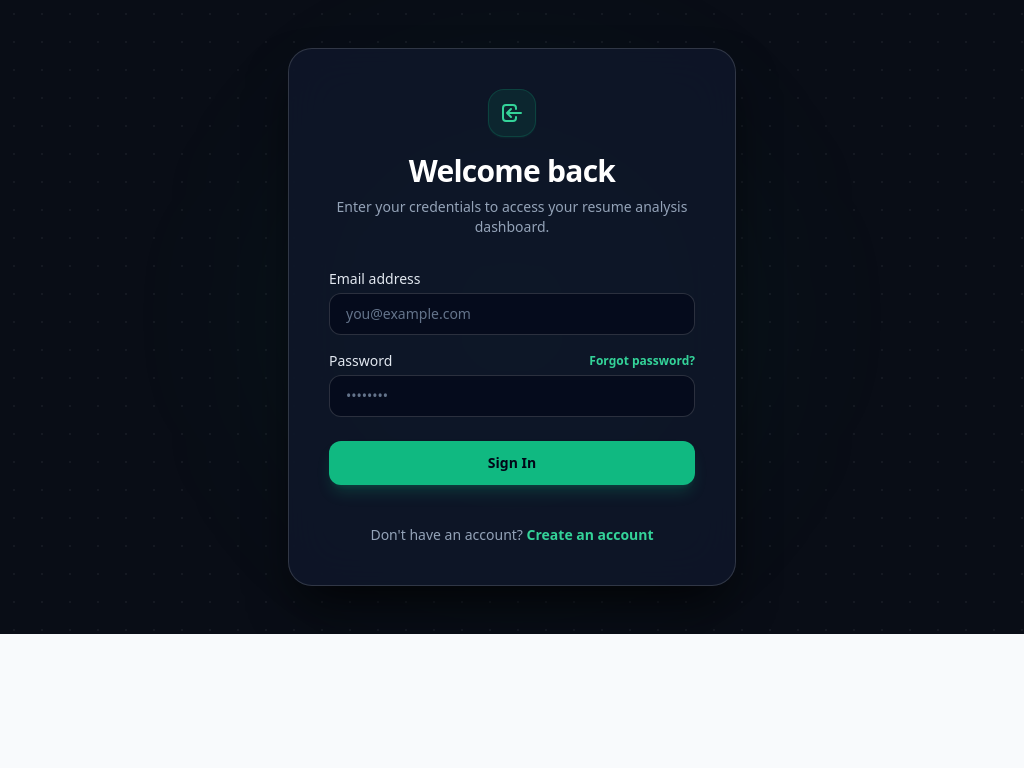
Test: Login Component › displays API error message on login failure
In the field labelled "Email address": (512, 314) x1=329 y1=293 x2=695 y2=335, type "test@example.com"
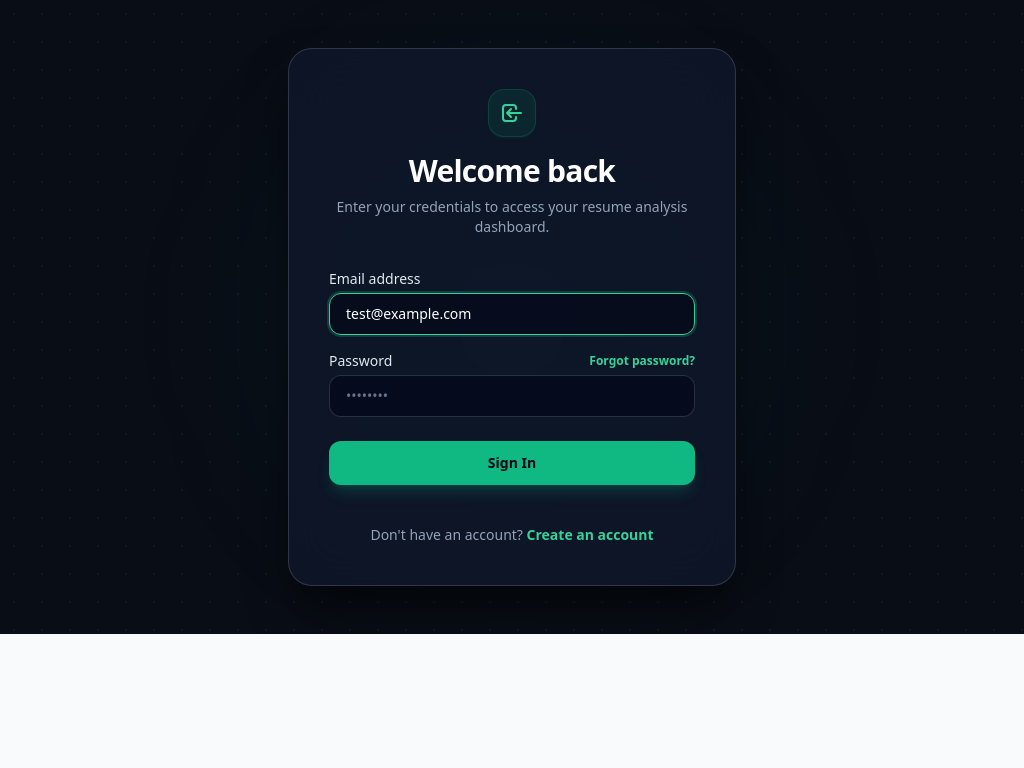
In the password field labelled "Password": (512, 396) x1=329 y1=375 x2=695 y2=417, type "WrongPassword123!"
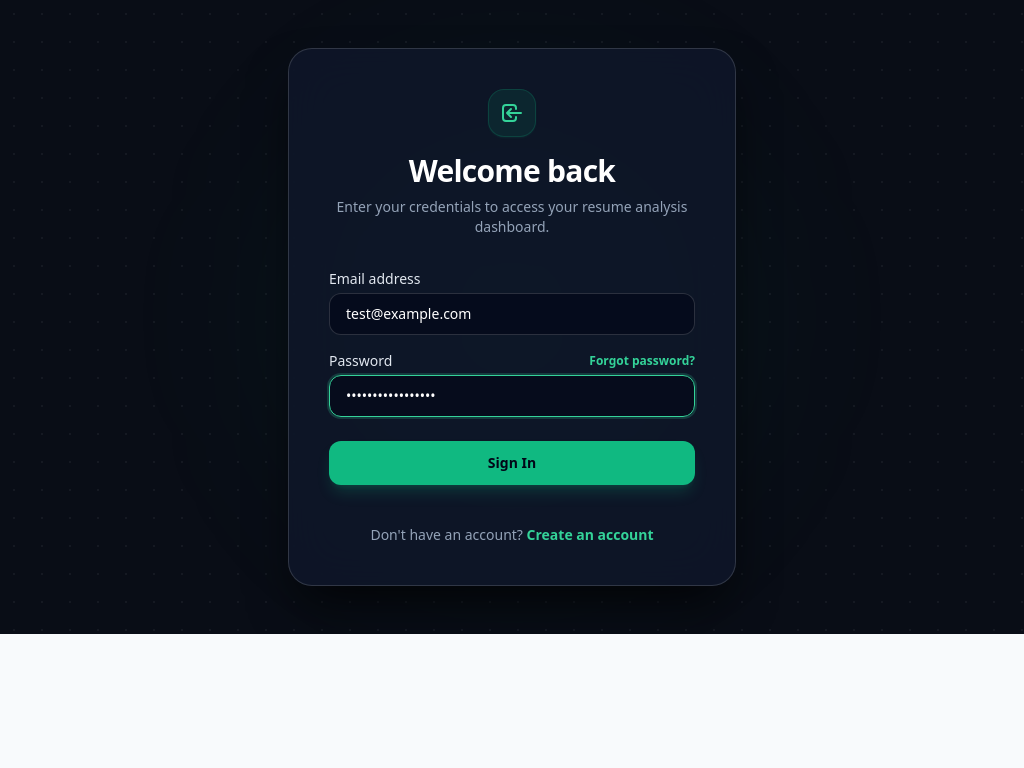
Click the button "Sign In": (512, 463) x1=329 y1=441 x2=695 y2=485
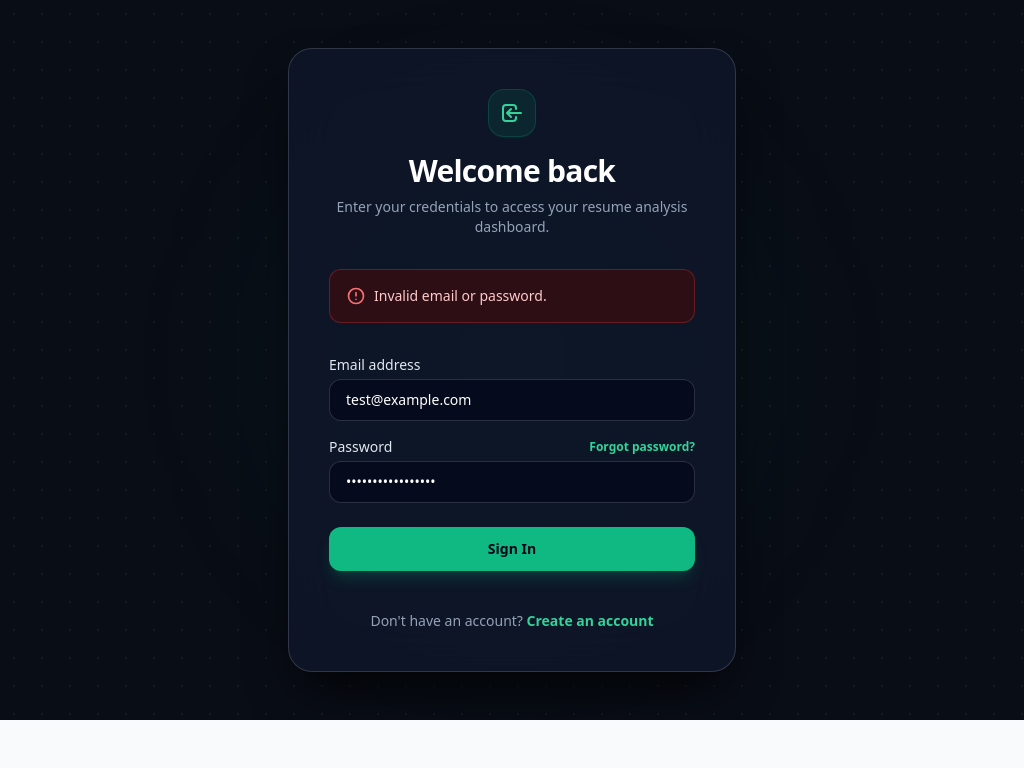
Expected: the text "Invalid email or password." is shown, x1=374 y1=286 x2=547 y2=306
